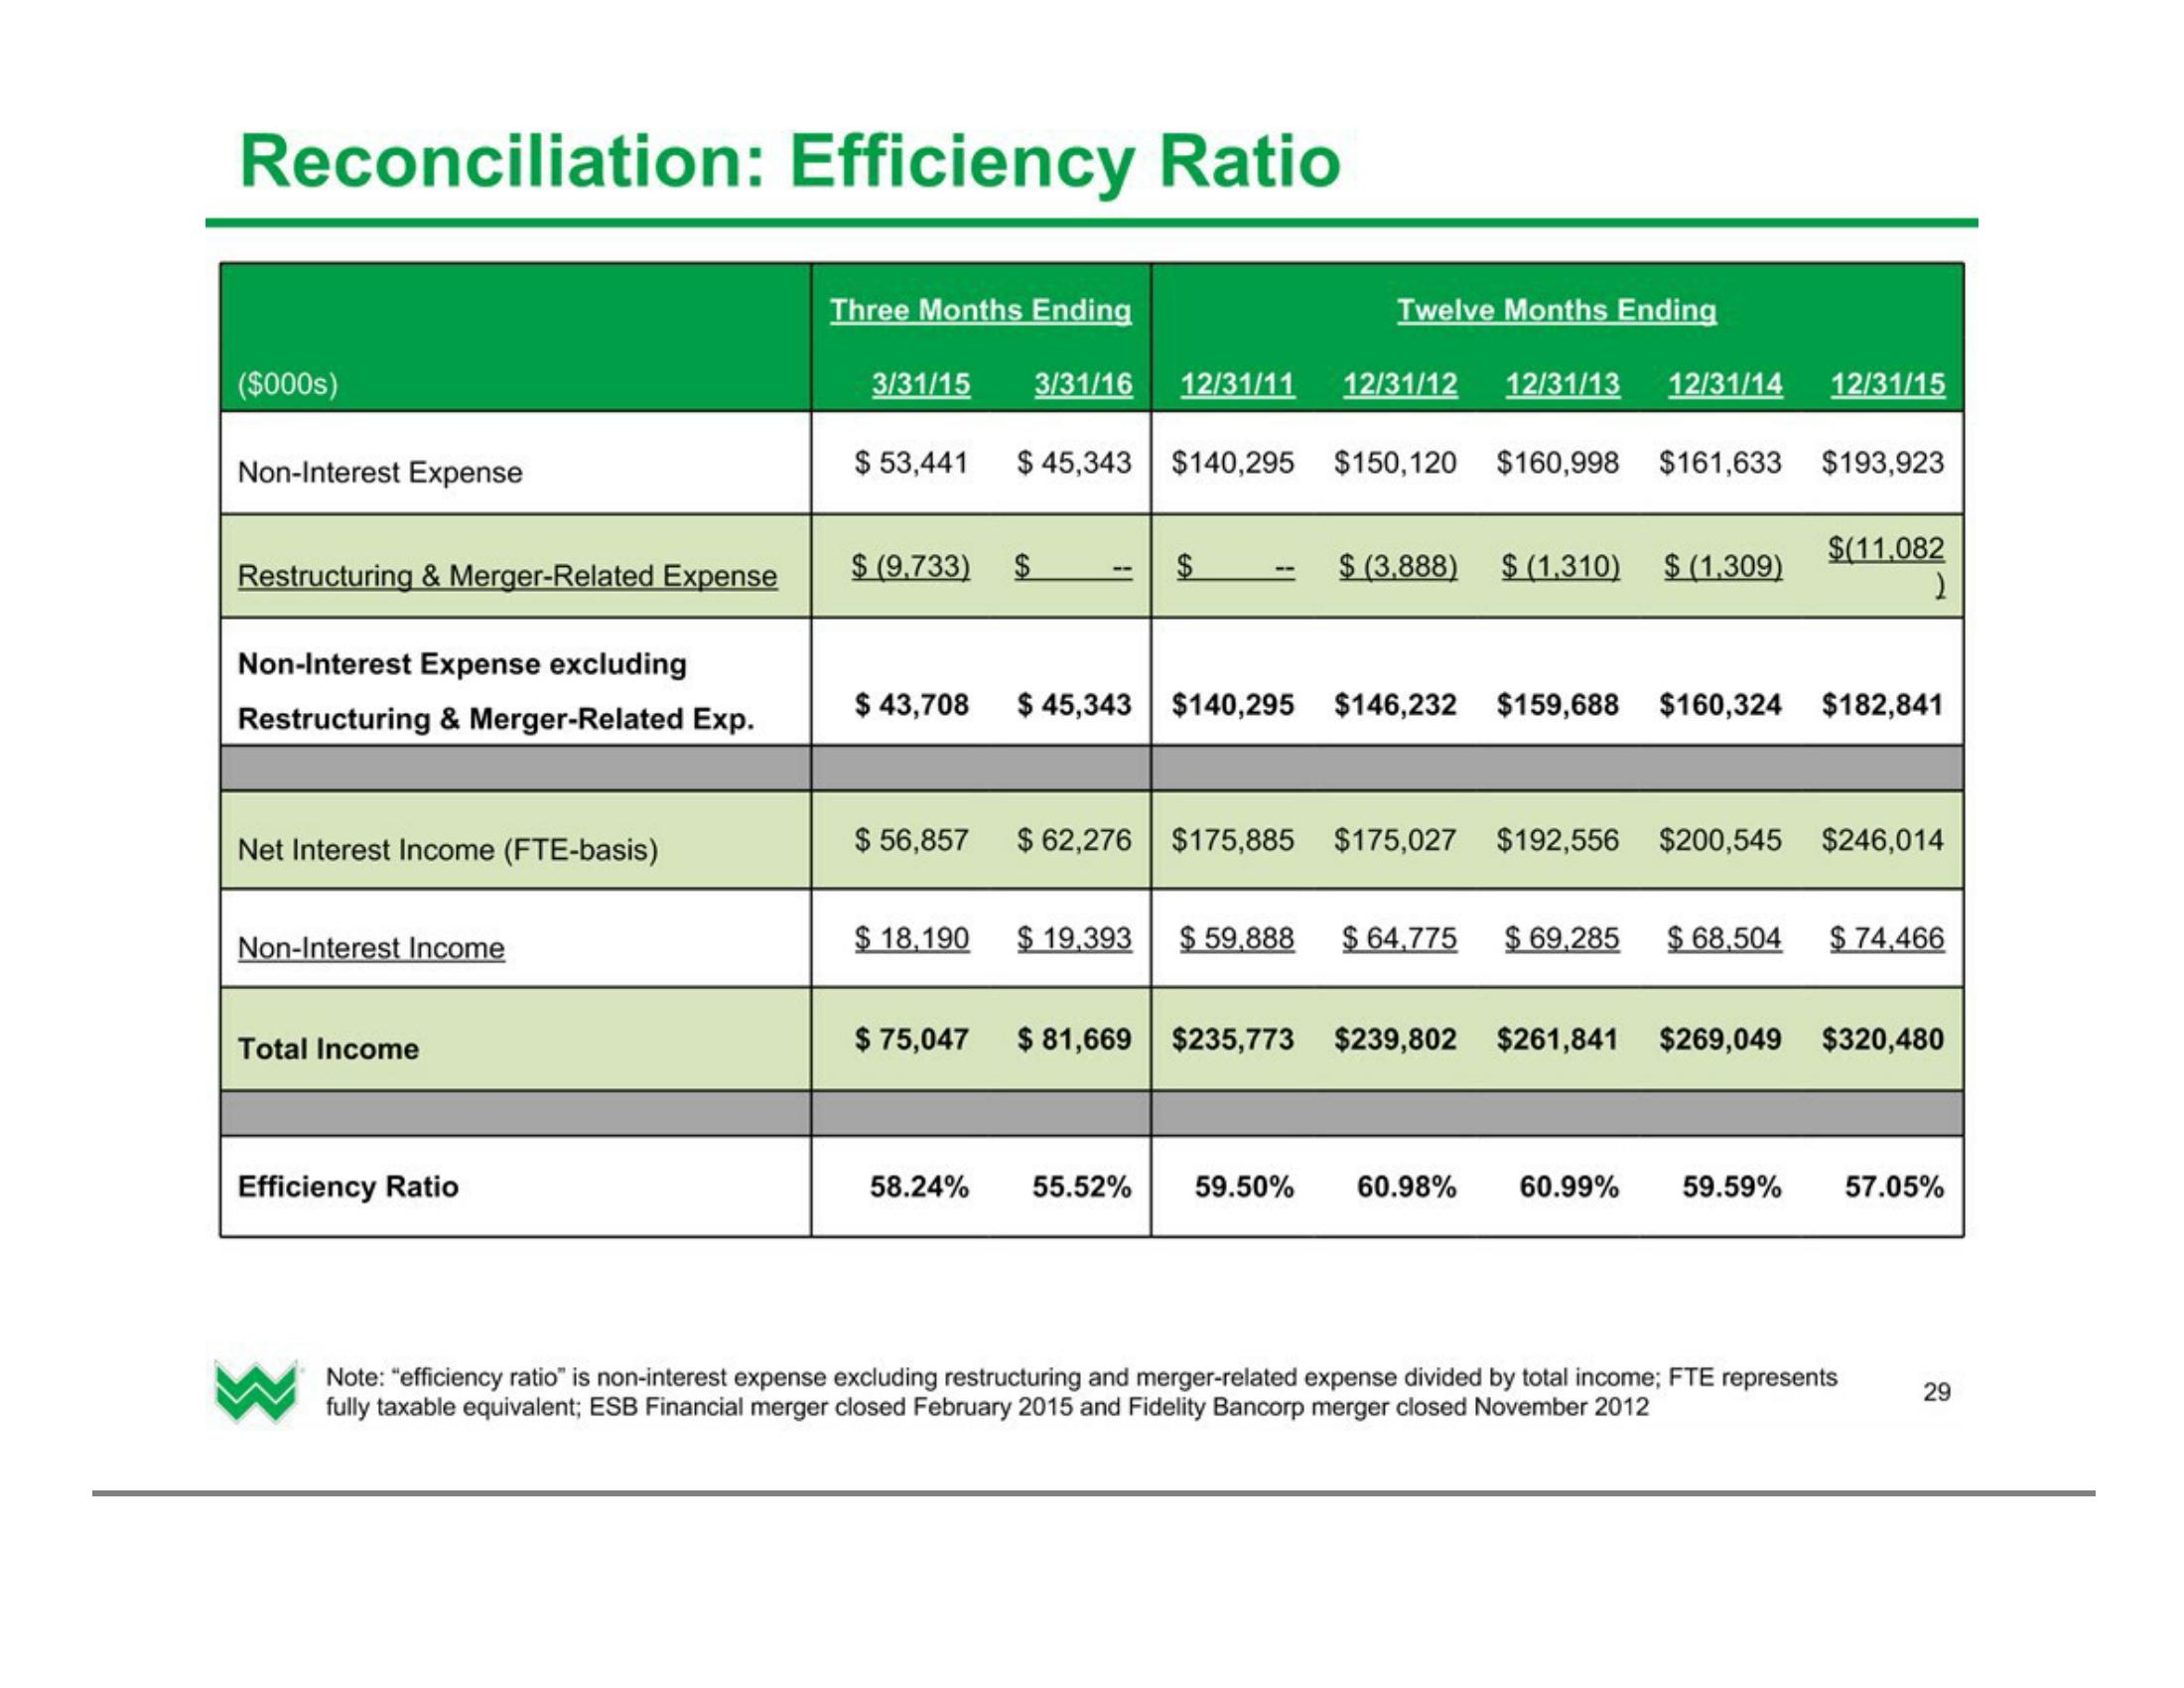table: (213, 254, 1973, 1248)
